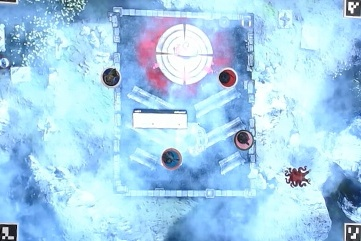blue: (99, 66, 122, 89)
giant_red_octopus: (287, 165, 310, 188)
light_blue_orange: (160, 145, 183, 168)
pink_green: (234, 129, 257, 152)
red: (217, 67, 240, 90)
